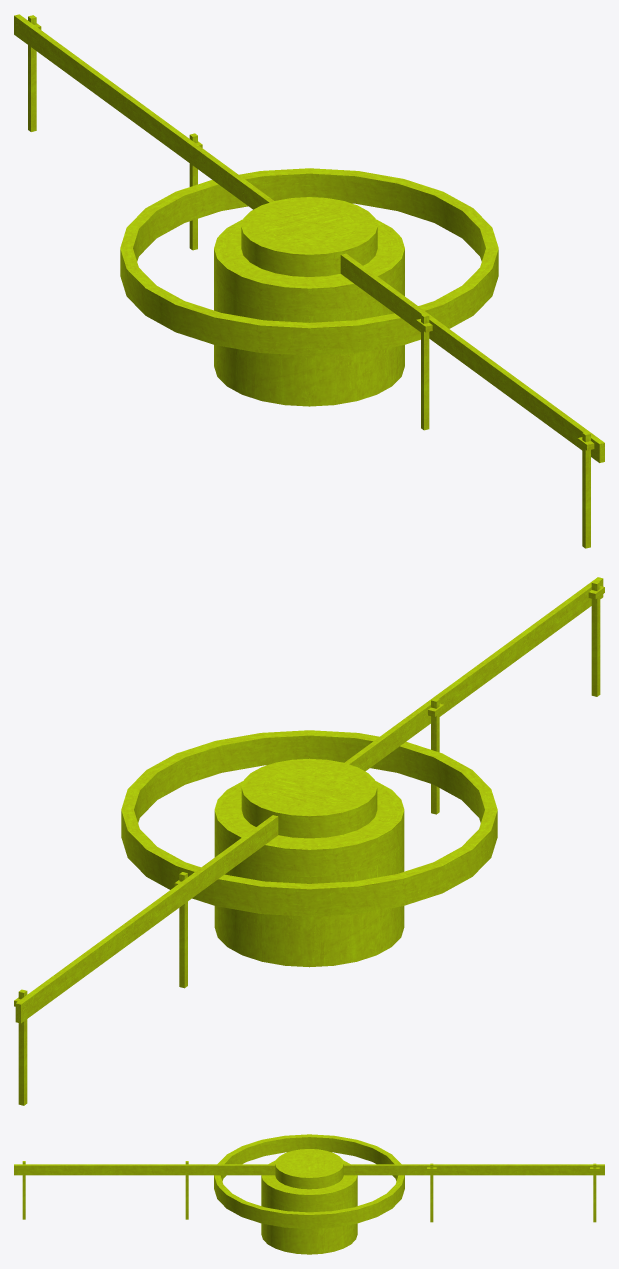
File: Skimmer_01.fbx
The picture shows the model from 3 angles, top to bottom: view 1: azimuth 30°, elevation 25°; view 2: azimuth 150°, elevation 25°; view 3: azimuth 270°, elevation 25°; orthographic projection. The views are drawn at different scales.
Parts seen in each view (by area): view 1: Skimmer_01; view 2: Skimmer_01; view 3: Skimmer_01.
Part boxes in pixels (x1,y1,x2,y2): Skimmer_01: (14,14,604,548); Skimmer_01: (14,577,604,1105); Skimmer_01: (14,1134,604,1254).
Bounding box in the file's own units: 3 × 1.23 × 9.28.
